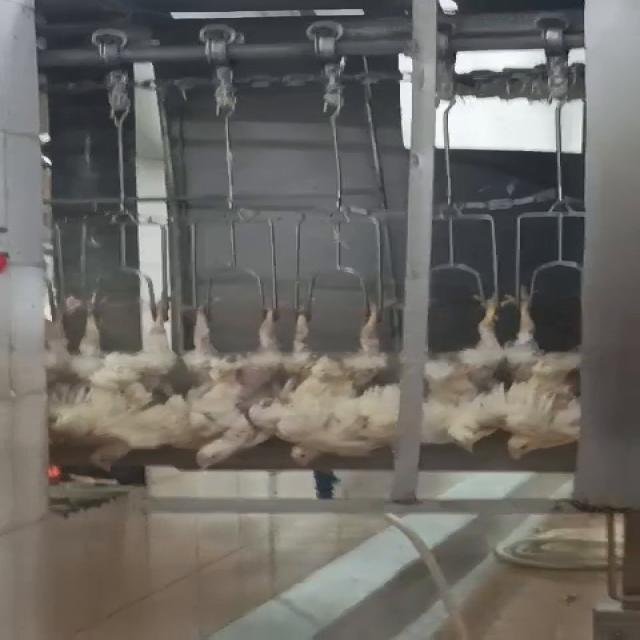chicken: (50, 290, 186, 472), (279, 286, 400, 470), (178, 289, 293, 476), (421, 285, 520, 451), (499, 282, 586, 464)
